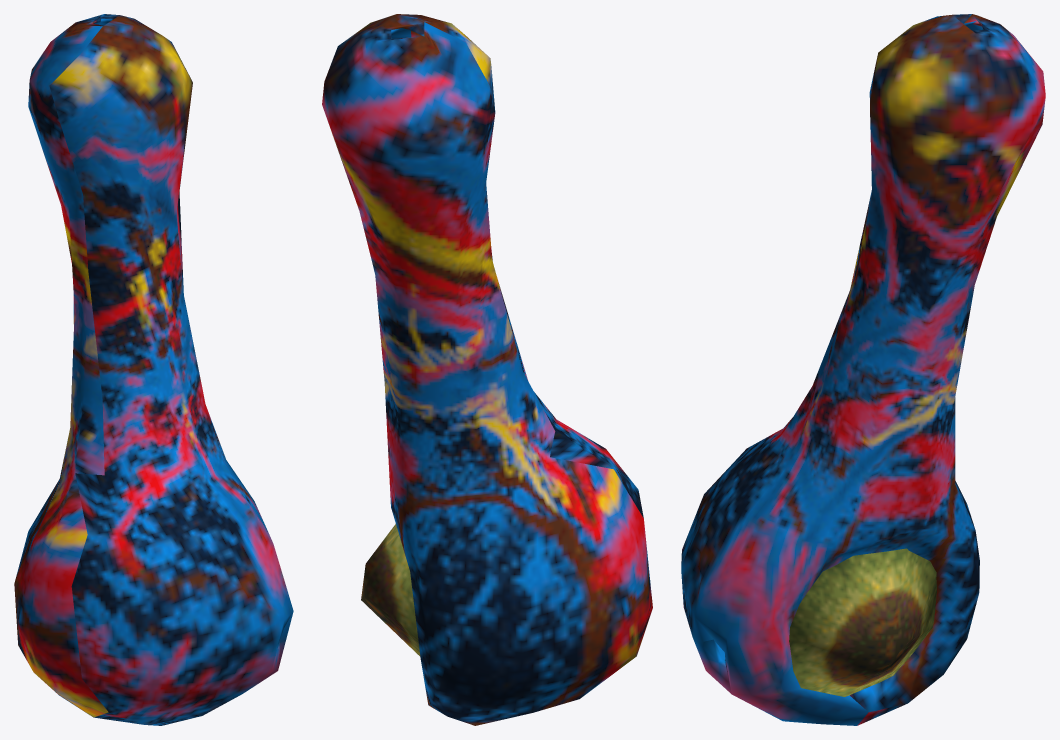
Rendered from SmokePipeGlassFilled.fbx.
3 views of the same model, side by side, from view 1: azimuth 30°, elevation 25°; view 2: azimuth 150°, elevation 25°; view 3: azimuth 270°, elevation 25° (orthographic). The views are drawn at different scales.
Visible parts, largest first — view 1: SmokePipe.001; view 2: SmokePipe.001; view 3: SmokePipe.001.
Boxes of the visible parts, bbox=[...] form: SmokePipe.001: bbox=[14, 14, 293, 725]; SmokePipe.001: bbox=[322, 14, 652, 725]; SmokePipe.001: bbox=[681, 14, 1045, 725].
Size of the model in its own units: 0.0362 by 0.0983 by 0.0461.
